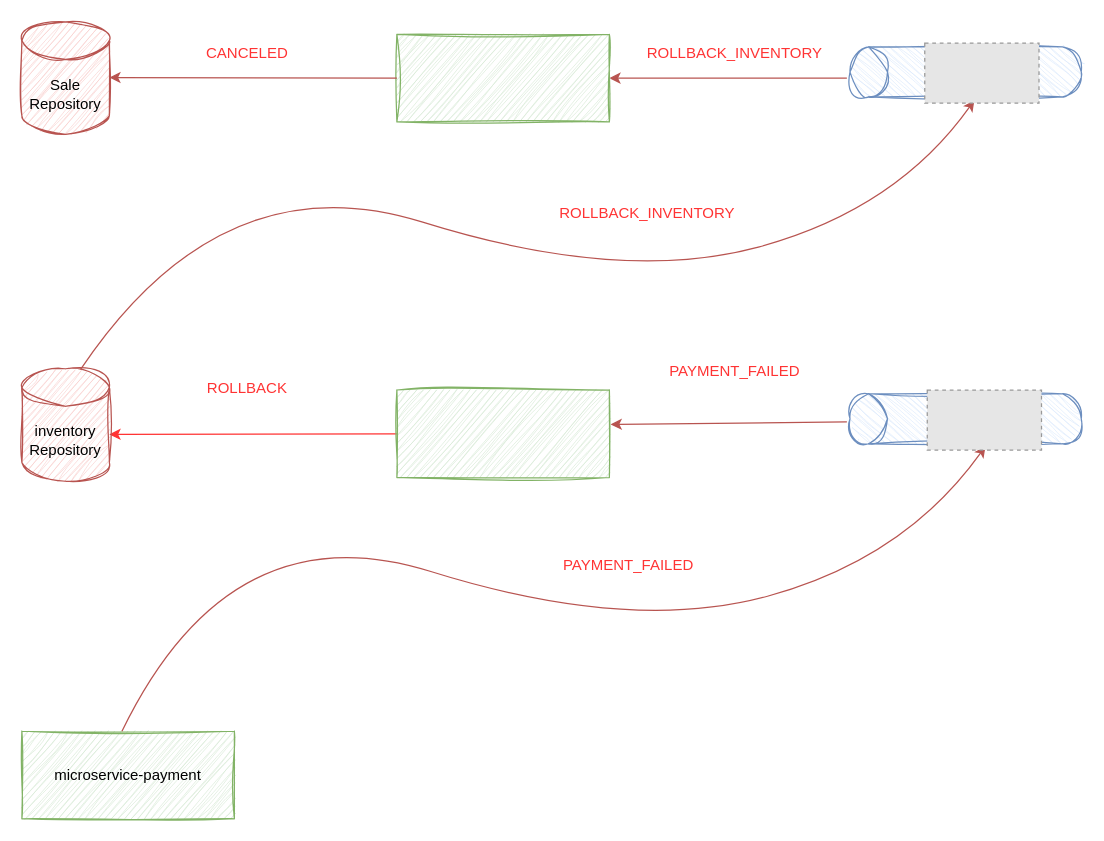
This 1104x841 diagram has some shape labels left out. Grey dashed boxes stand in for pictures. The shapes that lost their labels are listed below. From the top down, each one's centre as x and y in pixels, then its label:
the point at 502,77: microservice-sale
the point at 502,433: microservice-inventory
